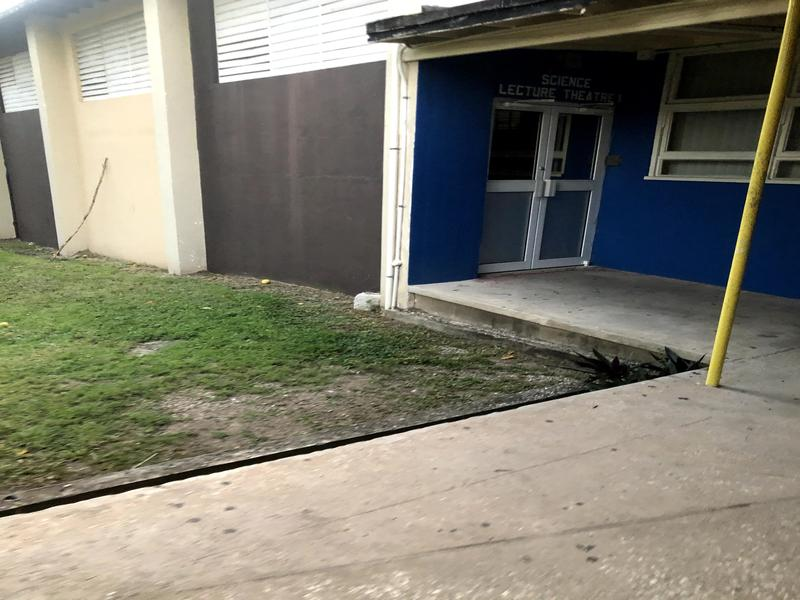18.0051836_-76.7497262_pclt1: (464, 82, 621, 292)
